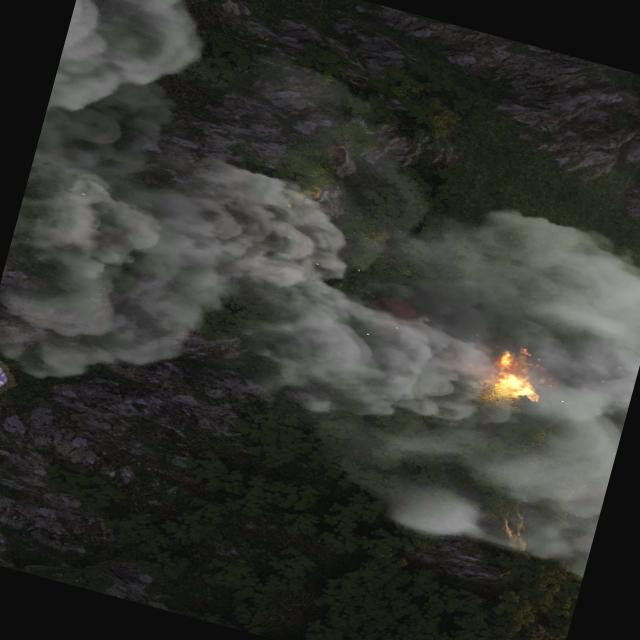fire: (474, 342, 550, 408)
smoke: (0, 85, 640, 576), (47, 0, 227, 143)
